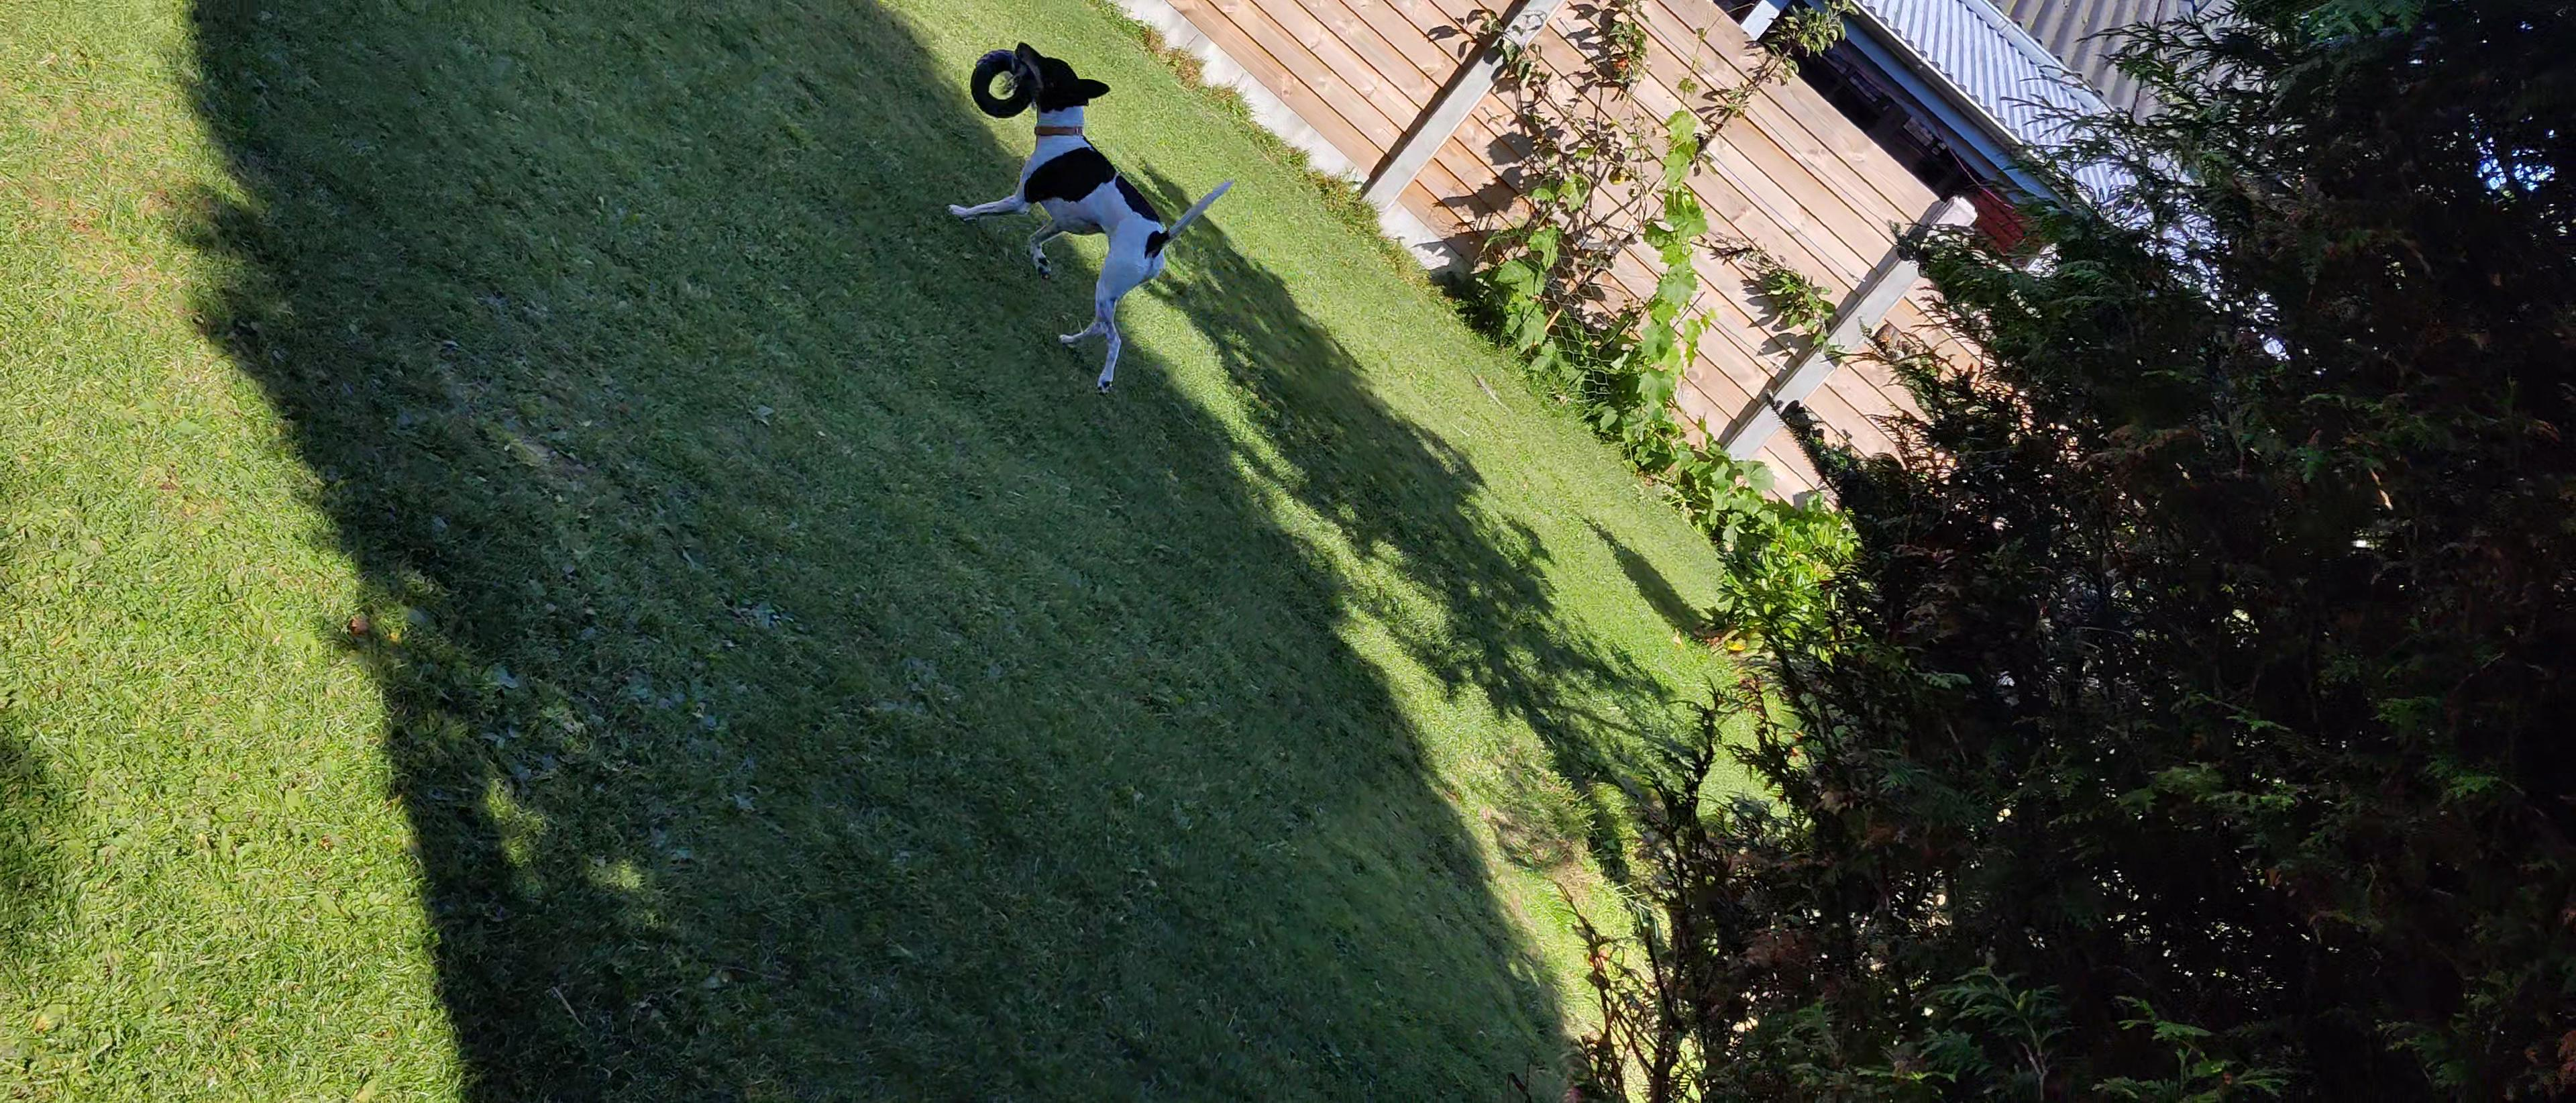Dog: (945, 36, 1237, 396)
